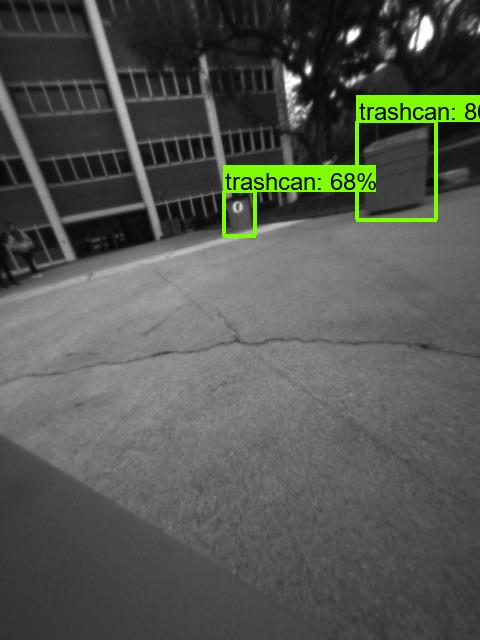trashcan: (359, 125, 430, 216), (224, 193, 256, 231)
